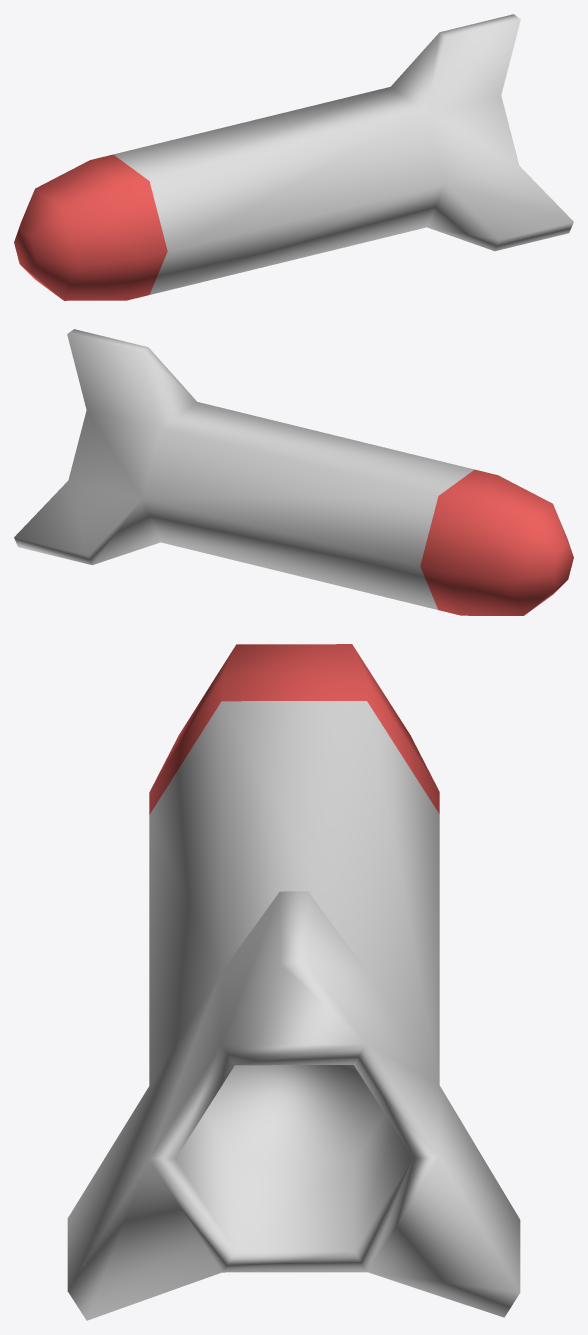
File: rocket.fbx
3 renders of one model, top to bottom at view 1: azimuth 30°, elevation 25°; view 2: azimuth 150°, elevation 25°; view 3: azimuth 270°, elevation 25°, orthographic. The views are drawn at different scales.
Parts seen in each view (by area): view 1: Cylinder; view 2: Cylinder; view 3: Cylinder.
Boxes of the visible parts, <box> form: Cylinder: <box>14,14,573,300</box>; Cylinder: <box>14,329,573,615</box>; Cylinder: <box>67,644,520,1320</box>.
Bounding box in the file's own units: 307 × 107 × 122.
